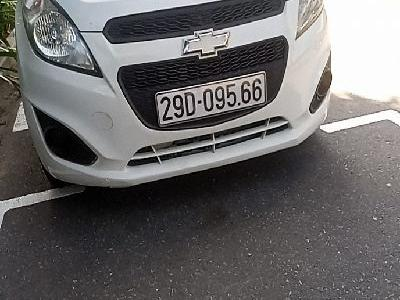number: (156, 70, 267, 128)
